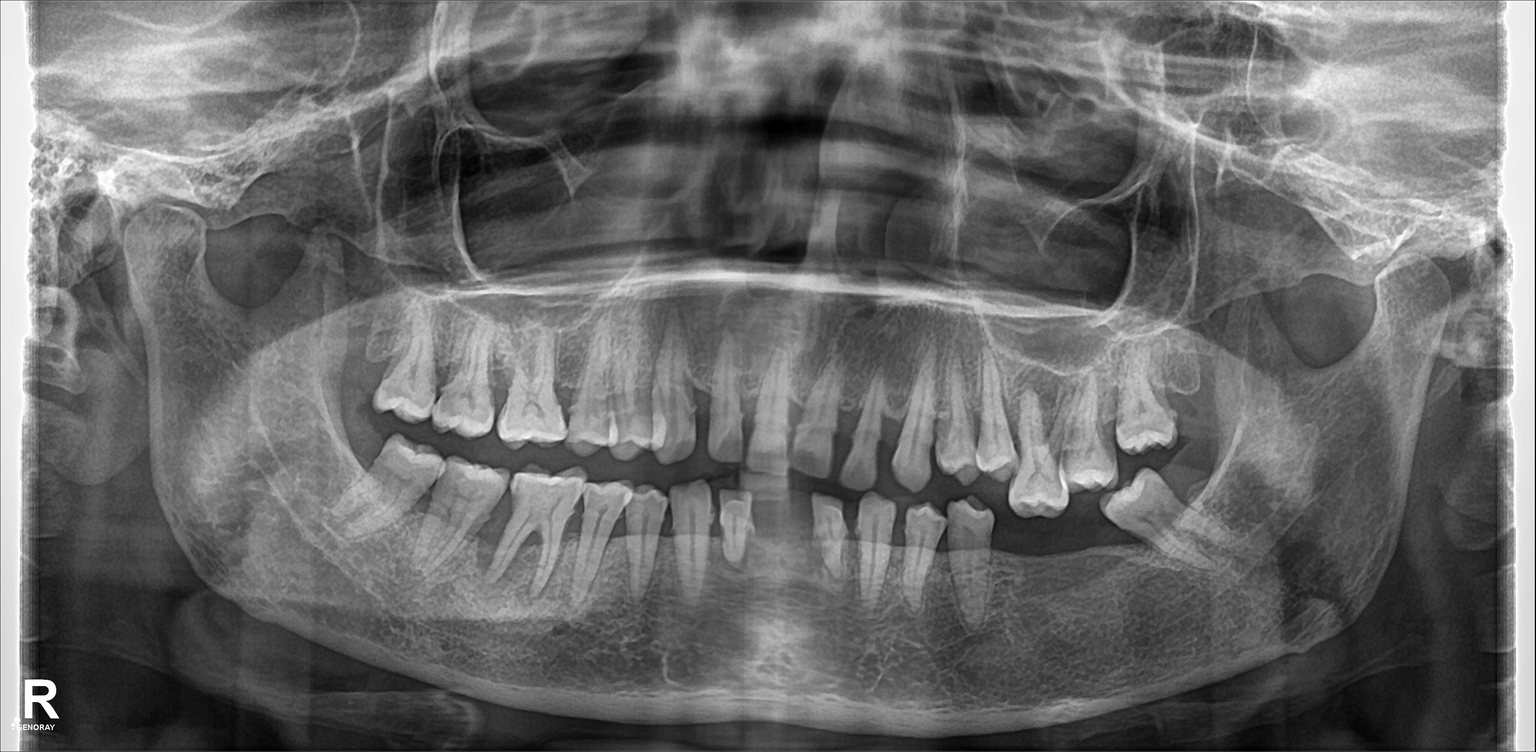Impacted Third Molar: (1110, 490, 1229, 559)
Missing Tooth: (1164, 352, 1225, 434), (337, 415, 383, 489), (1006, 523, 1044, 609), (764, 493, 803, 575), (348, 307, 383, 390), (1054, 529, 1089, 599)
